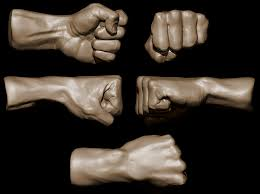fist: (69, 6, 124, 63), (150, 10, 211, 61), (68, 72, 122, 128), (140, 132, 192, 187), (136, 76, 193, 124)
